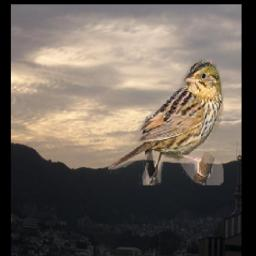Sparrow: (108, 59, 224, 185)
